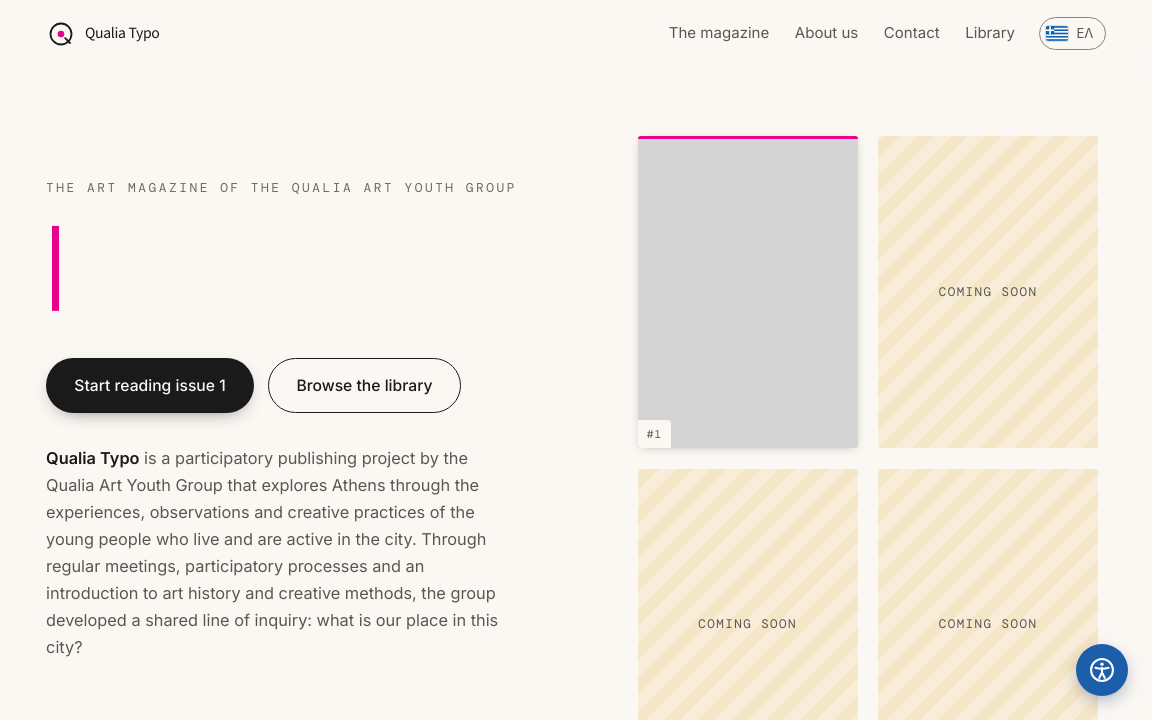
Test case: opening and closing › closes on Escape and hands focus back to the launcher
The width and height of the screenshot is (1152, 720).
Click the button named "Accessibility tools": (1102, 670) [1076,644,1128,696]
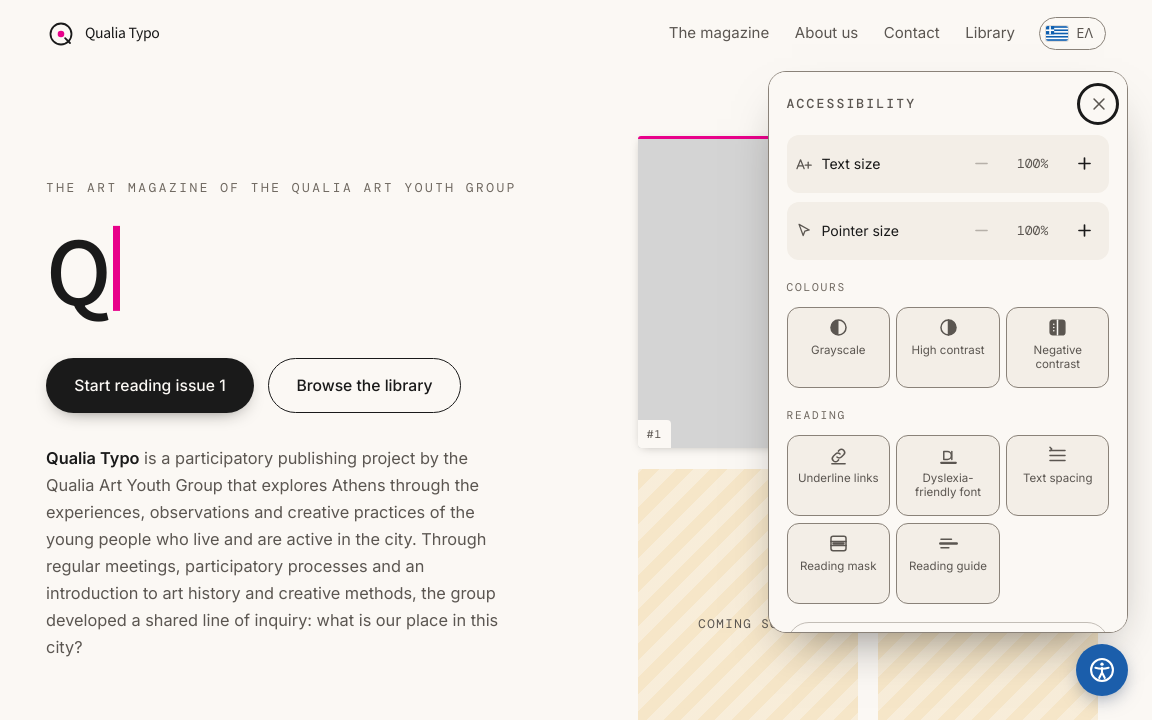
Press Escape
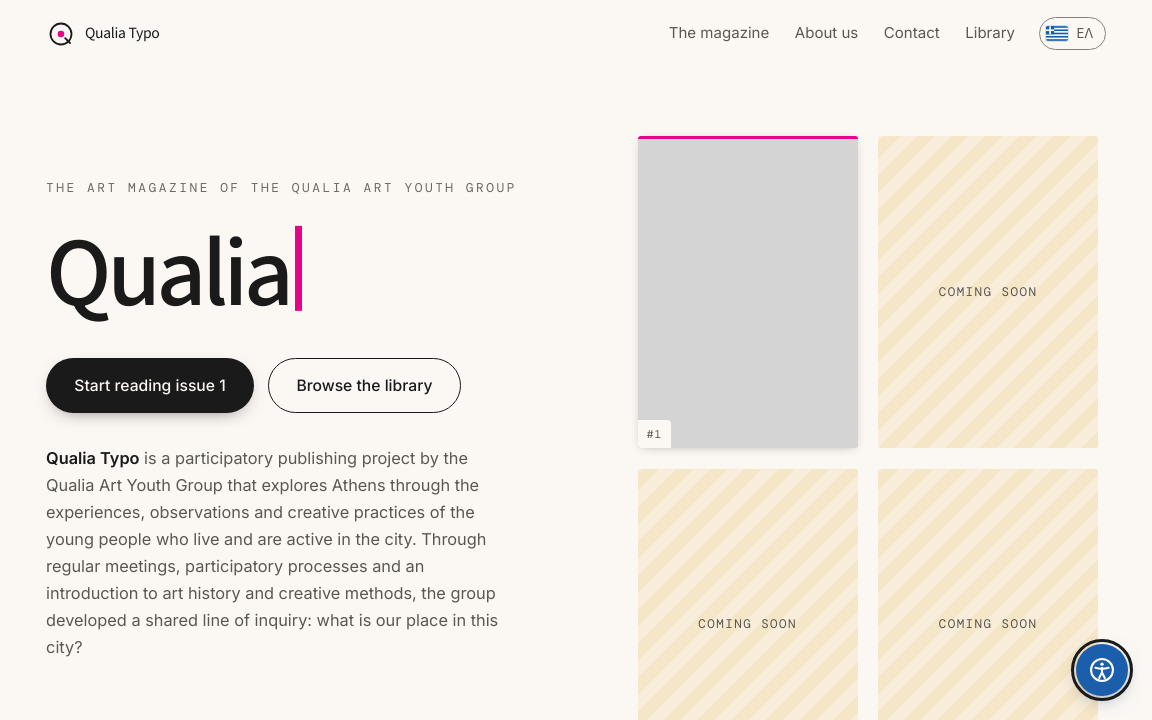
Expected: the heading "Accessibility" is gone
